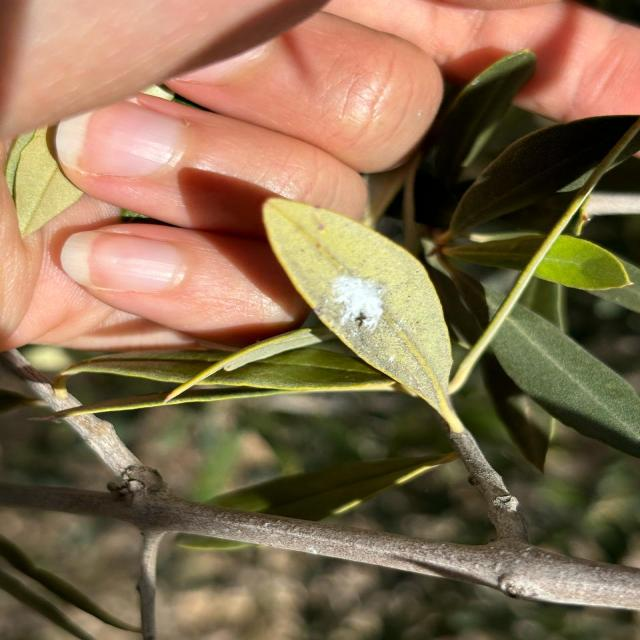Psyllid: (263, 199, 452, 406)
